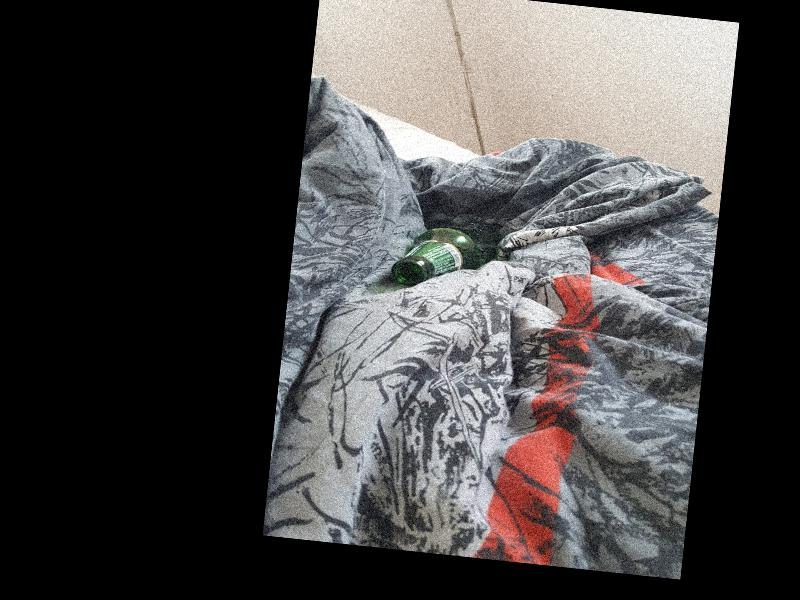Beer: (389, 213, 504, 296)
